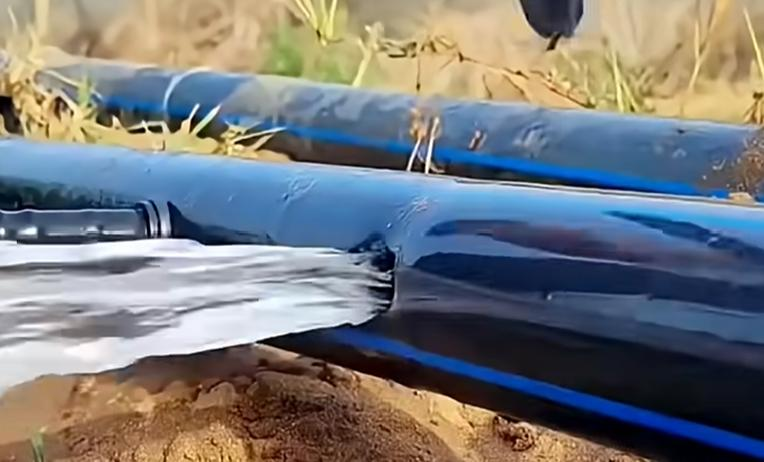pipe burst: (0, 236, 404, 395)
